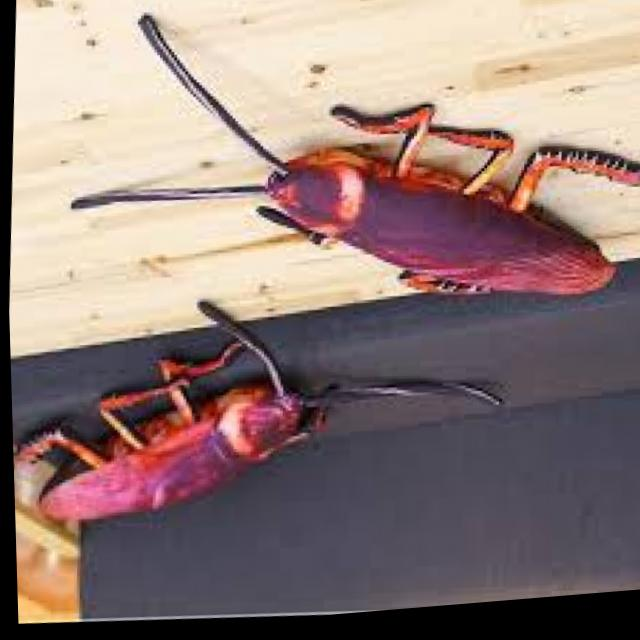Cockroach: (90, 29, 640, 377), (8, 300, 429, 594)
